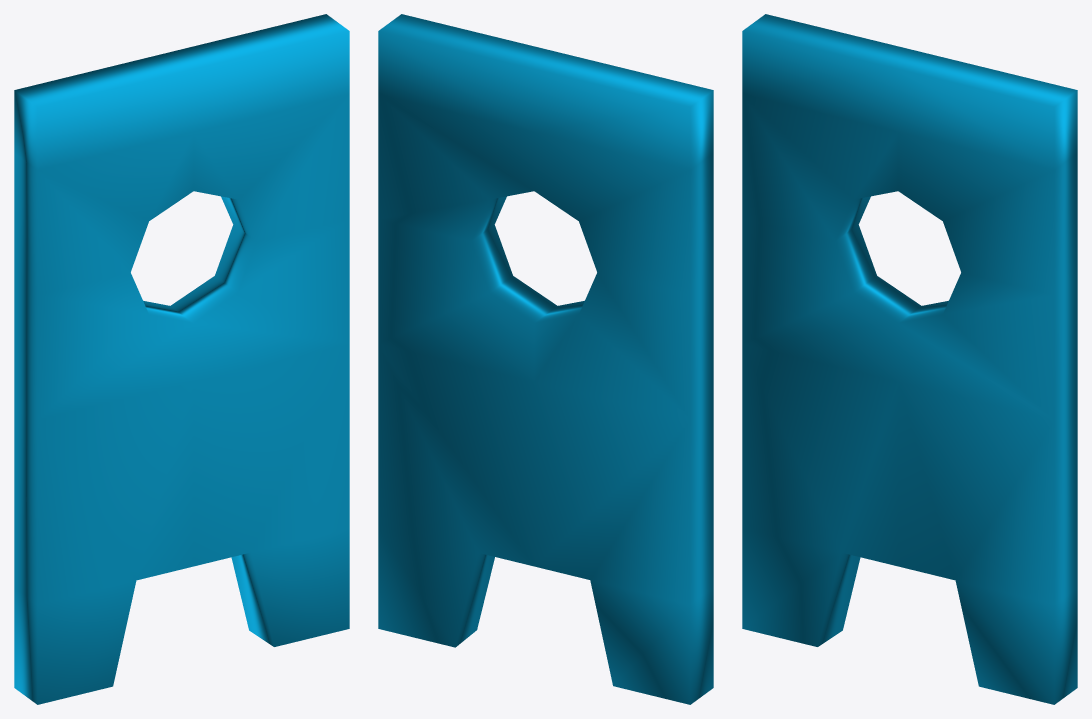
Rendered from Bench_Side.fbx.
3 renders of one model, left to right at view 1: azimuth 30°, elevation 25°; view 2: azimuth 150°, elevation 25°; view 3: azimuth 330°, elevation 25°, orthographic.
Visible parts, largest first — view 1: Bench_Side; view 2: Bench_Side; view 3: Bench_Side.
Boxes of the visible parts, x1=… form: Bench_Side: x1=14, y1=14, x2=349, y2=704; Bench_Side: x1=378, y1=14, x2=713, y2=704; Bench_Side: x1=742, y1=14, x2=1077, y2=704.
Size of the model in its own units: 24.18 by 44.25 by 3.14.
